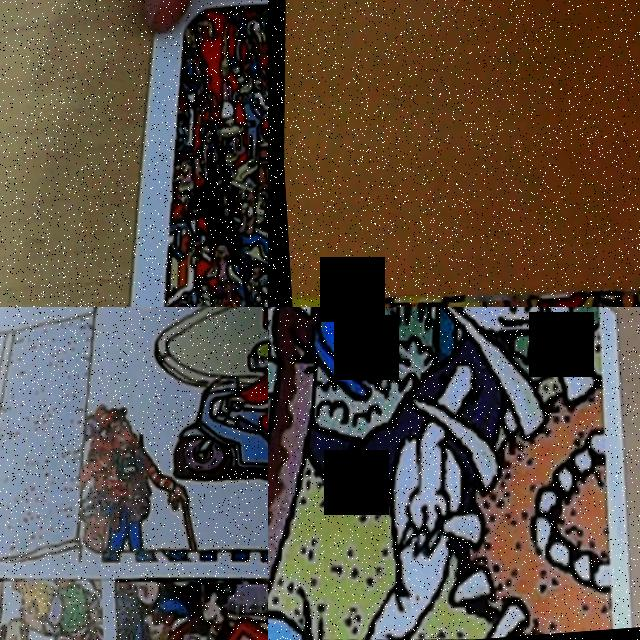waldo: (86, 405, 139, 456), (158, 617, 210, 640), (204, 292, 222, 307)
